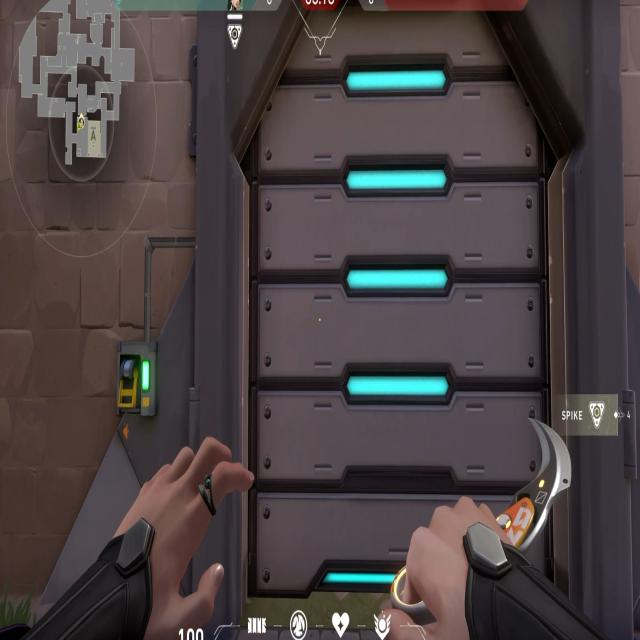A_Door: (191, 0, 600, 640)
